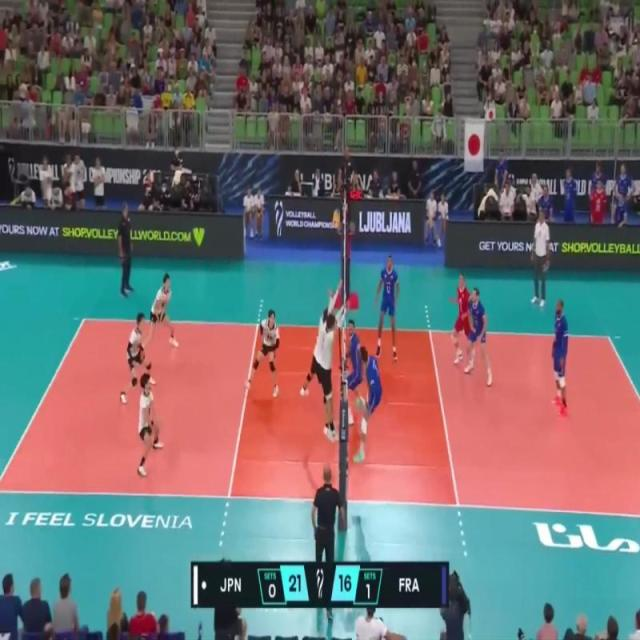volleyball: (331, 210, 341, 228)
